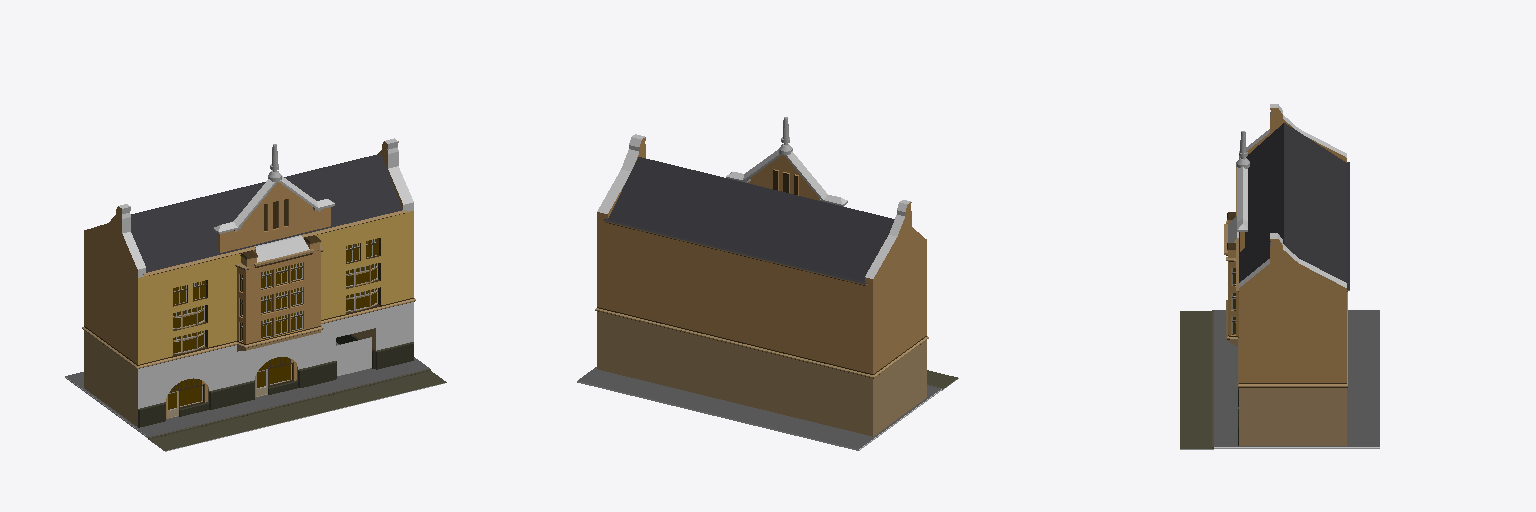
The model's file is building04.obj.
3 renders of one model, left to right at view 1: azimuth 30°, elevation 25°; view 2: azimuth 150°, elevation 25°; view 3: azimuth 270°, elevation 25°, orthographic.
Visible parts, largest first — view 1: Layer_0; view 2: Layer_0; view 3: Layer_0.
Part boxes in pixels (x1,y1,x2,y2): Layer_0: (65,138,446,451); Layer_0: (577,117,958,450); Layer_0: (1180,104,1379,449).
Size of the model in its own units: 28.54 by 24.11 by 17.56.